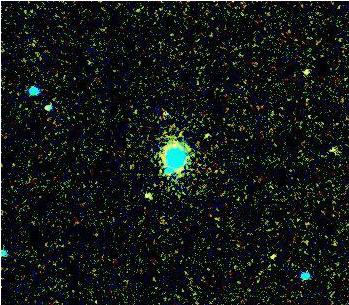star: (254, 244, 284, 274)
